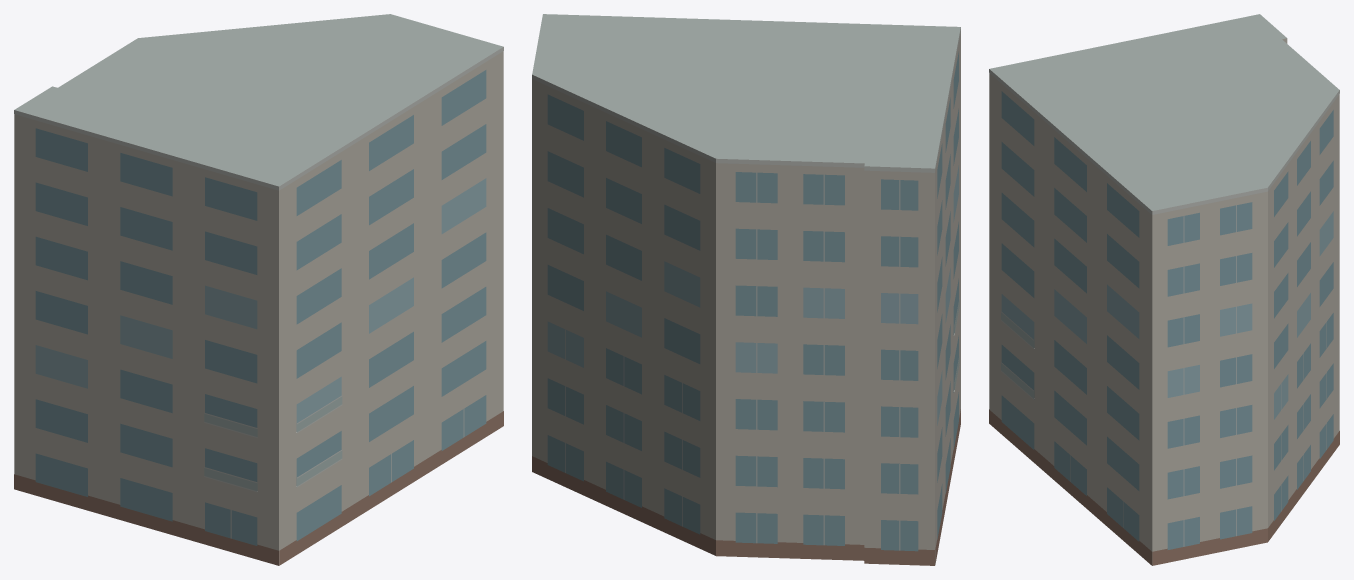
Rendered from survey-upis-32745878.glb.
3 views of the same model, side by side, from view 1: azimuth 30°, elevation 25°; view 2: azimuth 150°, elevation 25°; view 3: azimuth 270°, elevation 25° (orthographic). The views are drawn at different scales.
Parts seen in each view (by area): view 1: survey-upis-32745878.tmp; view 2: survey-upis-32745878.tmp; view 3: survey-upis-32745878.tmp.
Boxes of the visible parts, bbox=[...] form: survey-upis-32745878.tmp: bbox=[14, 14, 503, 565]; survey-upis-32745878.tmp: bbox=[532, 14, 960, 565]; survey-upis-32745878.tmp: bbox=[989, 14, 1339, 565].
Bounding box in the file's own units: 26.59 × 22.3 × 19.98.
